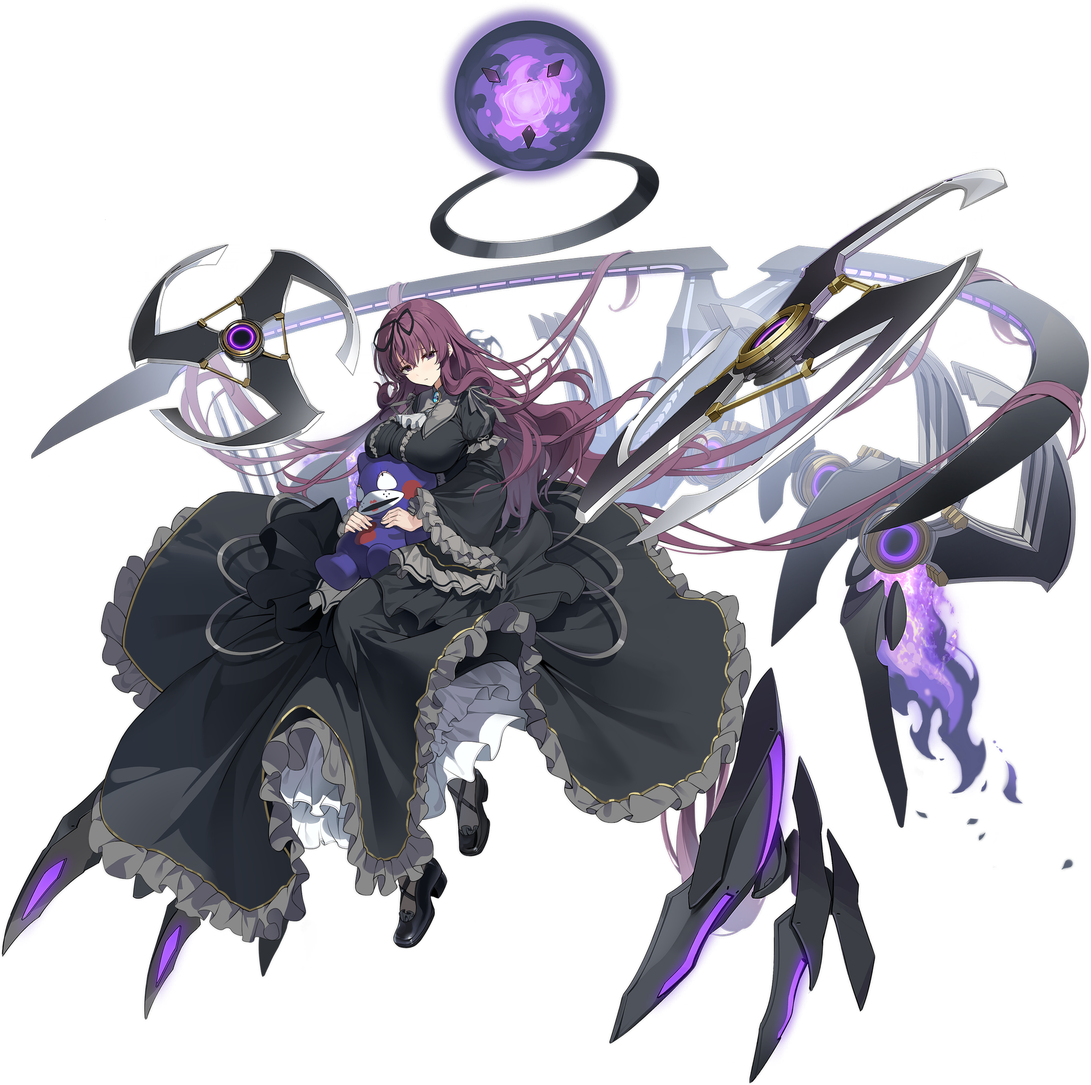person: (50, 252, 633, 1003)
